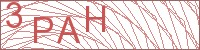3: (5, 1, 24, 29)
A: (56, 14, 81, 44)
H: (84, 5, 107, 33)
P: (32, 16, 54, 45)
